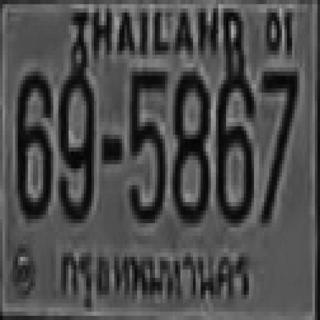N05: (127, 67, 165, 219)
N06: (215, 67, 253, 219), (15, 67, 51, 215)
N07: (259, 67, 297, 223), (259, 68, 297, 190)
N08: (170, 67, 208, 219)
N09: (57, 63, 93, 219)
P04: (56, 241, 260, 311)
